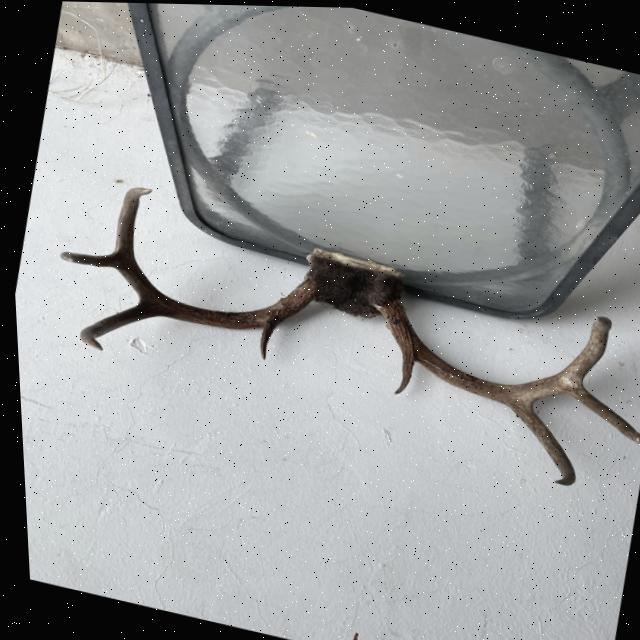L-F: (147, 154, 281, 338)
L-G1: (227, 315, 289, 338)
L-G2: (272, 210, 379, 252)
L-G3: (240, 148, 311, 201)
R-F: (59, 377, 231, 531)
R-G1: (210, 414, 266, 434)
R-G2: (208, 505, 283, 573)
R-G3: (149, 527, 172, 574)
